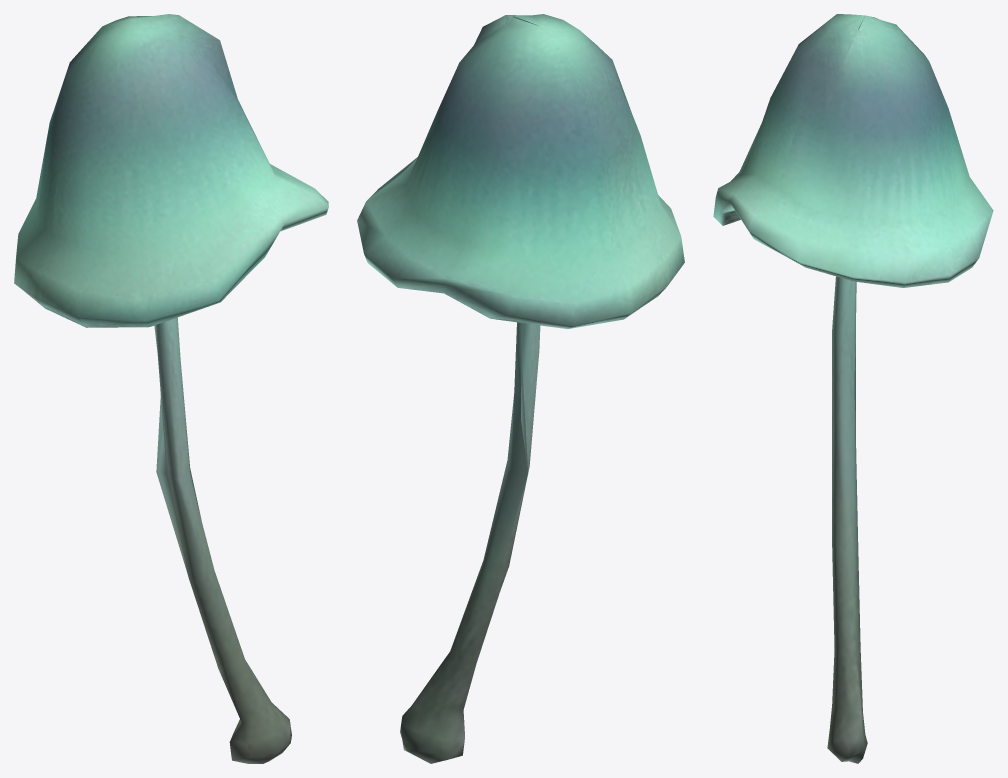
File: fungus-teal-tall-a.gltf
3 views of the same model, side by side, from view 1: azimuth 30°, elevation 25°; view 2: azimuth 150°, elevation 25°; view 3: azimuth 270°, elevation 25° (orthographic). The views are drawn at different scales.
Parts seen in each view (by area): view 1: fungus-teal-tall-a; view 2: fungus-teal-tall-a; view 3: fungus-teal-tall-a.
Boxes of the visible parts, bbox=[...] form: fungus-teal-tall-a: bbox=[14, 14, 328, 763]; fungus-teal-tall-a: bbox=[357, 14, 684, 763]; fungus-teal-tall-a: bbox=[713, 14, 993, 763].
Size of the model in its own units: 0.3003 by 0.7861 by 0.2881.
Materials: 1 (1 with a texture image).
